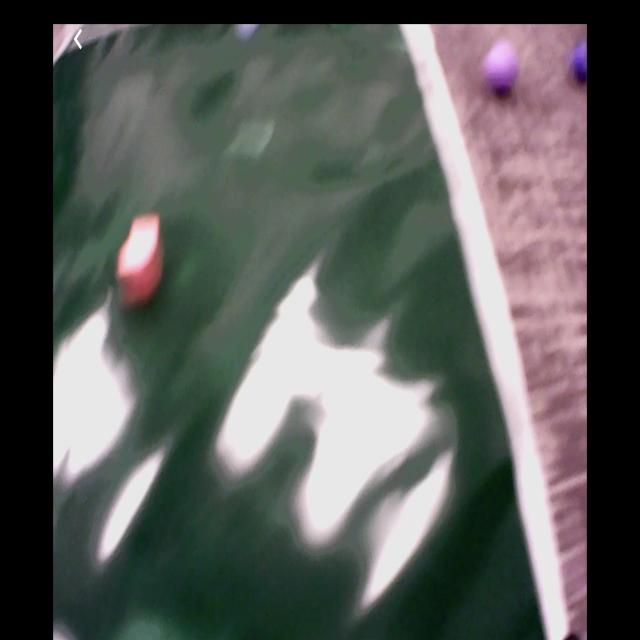ball: (487, 39, 519, 96), (574, 37, 589, 85)
